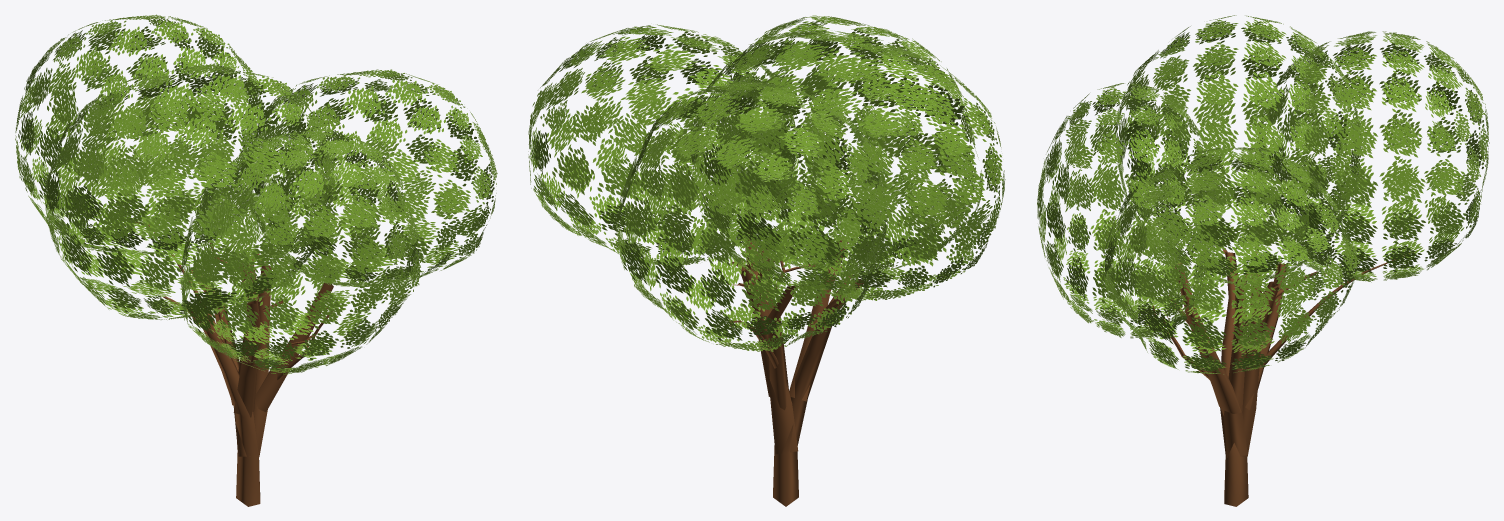
Rendered from Ash tree.fbx.
3 views of the same model, side by side, from view 1: azimuth 30°, elevation 25°; view 2: azimuth 150°, elevation 25°; view 3: azimuth 270°, elevation 25° (orthographic). The views are drawn at different scales.
Parts seen in each view (by area): view 1: Cube.002; view 2: Cube.002; view 3: Cube.002.
Part boxes in pixels (x1=…): Cube.002: x1=15, y1=14, x2=497, y2=506; Cube.002: x1=528, y1=15, x2=1005, y2=506; Cube.002: x1=1037, y1=15, x2=1489, y2=506.
Bounding box in the file's own units: 1547 × 1526 × 1431.
